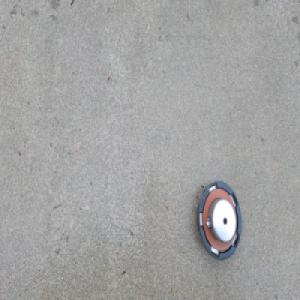FuelCap: (196, 178, 243, 263)
